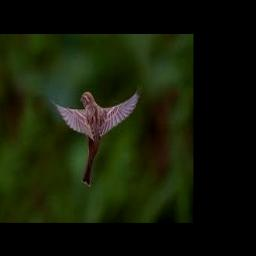Sparrow: (49, 85, 142, 187)
